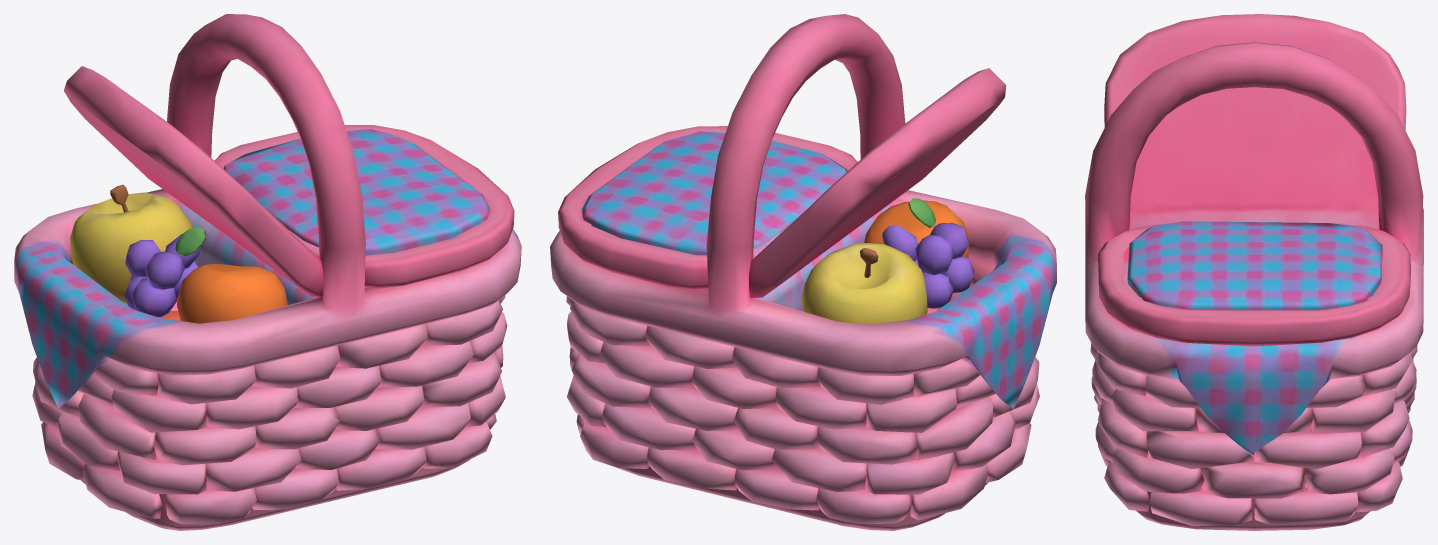
Rendered from picnic-basket.glb.
3 views of the same model, side by side, from view 1: azimuth 30°, elevation 25°; view 2: azimuth 150°, elevation 25°; view 3: azimuth 270°, elevation 25° (orthographic). The views are drawn at different scales.
Visible parts, largest first — view 1: geometry_0; view 2: geometry_0; view 3: geometry_0.
Part boxes in pixels (box(x1,y1,x2,y2)): geometry_0: box(14, 14, 521, 530); geometry_0: box(550, 14, 1056, 530); geometry_0: box(1085, 14, 1423, 530).
Size of the model in its own units: 1 by 0.9929 by 0.7346.
1 material, 1 textured.
